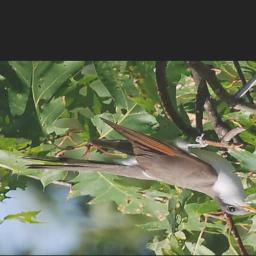Cuckoo: (19, 117, 256, 216)
